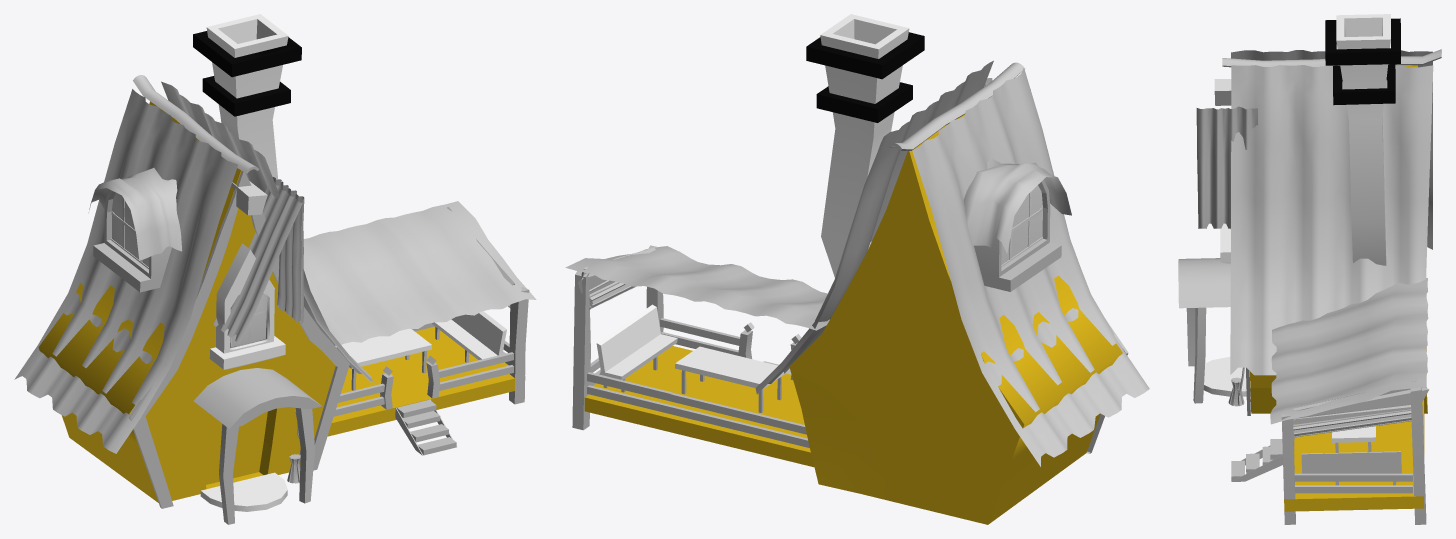
File: Casa Abu_final.fbx
3 views of the same model, side by side, from view 1: azimuth 30°, elevation 25°; view 2: azimuth 150°, elevation 25°; view 3: azimuth 270°, elevation 25° (orthographic). The views are drawn at different scales.
Parts seen in each view (by area): view 1: Tejado izq UV, Casa, Tejado porche, chimenea, Porche, Tejado ventana frontal, Madera fachada, techado puerta, Tejado ventana lateral, Ventanal fontal (Piedra), Tejado dcha, Ventanal lateral (+12 smaller); view 2: Casa, Tejado izq UV, chimenea, Porche, Tejado porche, Tejado dcha, Tejado ventana lateral, sofa, Ventanal lateral, Pilar porche 003, Mesa, Madera porche 001 UV004 (+5 smaller); view 3: Tejado dcha, Tejado porche, chimenea, Porche, Tejado ventana frontal, techado puerta, sofa, Persiana, Tejado izq UV, Pilar porche 003, Persiana enrrollada, Piedra entrada (+12 smaller).
Part boxes in pixels (x1,y1,x2,y2): Tejado izq UV: [14, 89, 237, 453]; Casa: [38, 101, 335, 502]; Tejado porche: [303, 201, 536, 347]; chimenea: [193, 14, 301, 179]; Porche: [327, 326, 525, 436]; Tejado ventana frontal: [213, 177, 304, 343]; Madera fachada: [128, 171, 349, 508]; techado puerta: [193, 368, 321, 428]; Tejado ventana lateral: [88, 168, 182, 260]; Ventanal fontal (Piedra): [209, 243, 285, 369]; Tejado dcha: [161, 81, 383, 391]; Ventanal lateral: [93, 190, 171, 292]; Casa: [789, 114, 1122, 524]; Tejado izq UV: [912, 68, 1149, 466]; chimenea: [806, 14, 924, 277]; Porche: [584, 346, 814, 467]; Tejado porche: [565, 246, 829, 330]; Tejado dcha: [755, 60, 993, 394]; Tejado ventana lateral: [963, 158, 1071, 253]; sofa: [596, 304, 677, 379]; Ventanal lateral: [974, 179, 1061, 291]; Pilar porche 003: [572, 271, 590, 430]; Mesa: [675, 346, 786, 389]; Madera porche 001 UV004: [587, 385, 809, 447]; Tejado dcha: [1230, 65, 1433, 375]; Tejado porche: [1270, 278, 1428, 424]; chimenea: [1325, 14, 1400, 265]; Porche: [1284, 400, 1424, 511]; Tejado ventana frontal: [1196, 106, 1257, 228]; techado puerta: [1178, 258, 1230, 308]; sofa: [1301, 451, 1401, 473]; Persiana: [1292, 380, 1429, 424]; Tejado izq UV: [1231, 50, 1432, 249]; Pilar porche 003: [1410, 387, 1426, 524]; Persiana enrrollada: [1293, 409, 1411, 437]; Piedra entrada: [1203, 357, 1250, 396].
Size of the model in its own units: 225 by 194 by 119.
